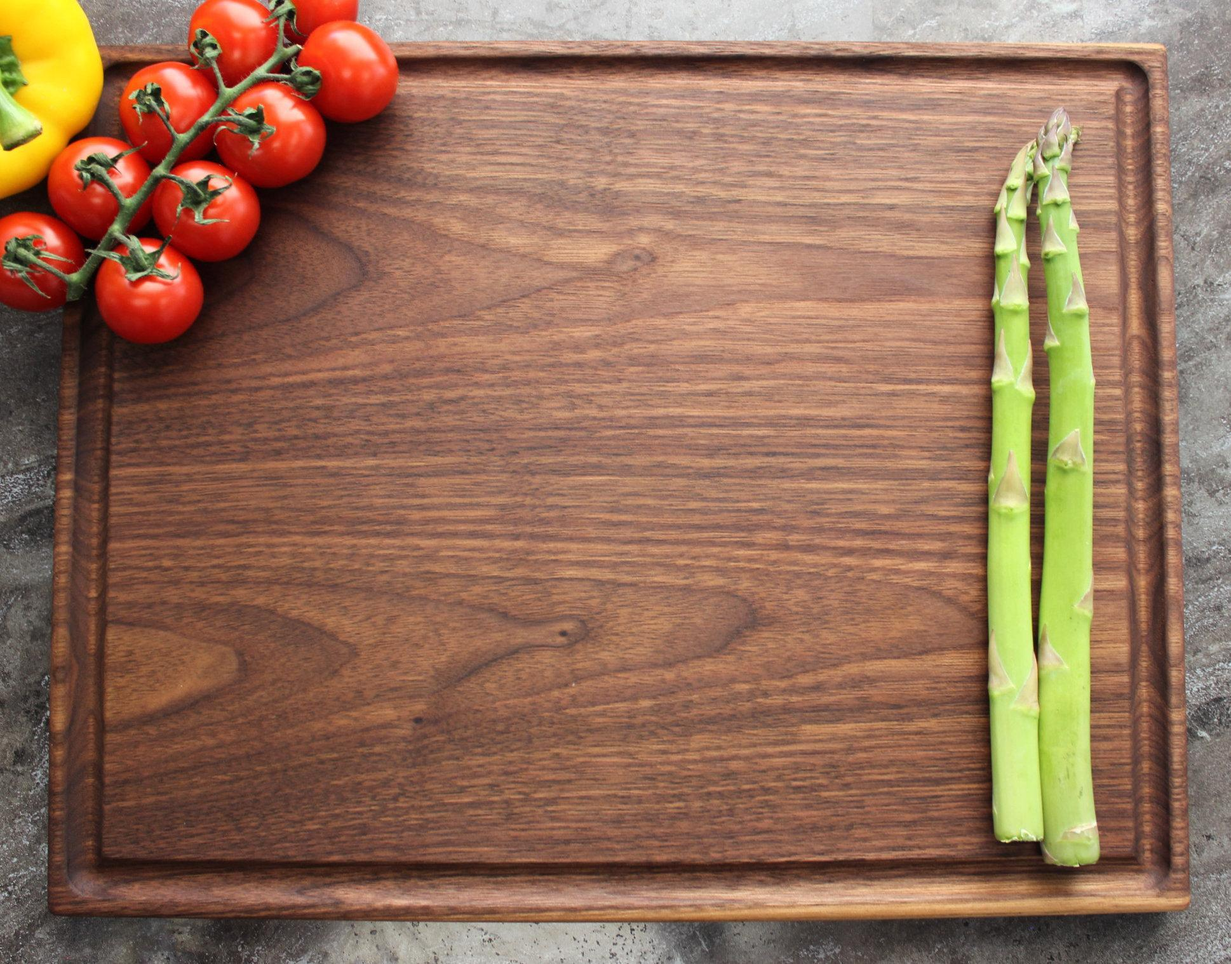gloved_hand: (36, 49, 1208, 928)
